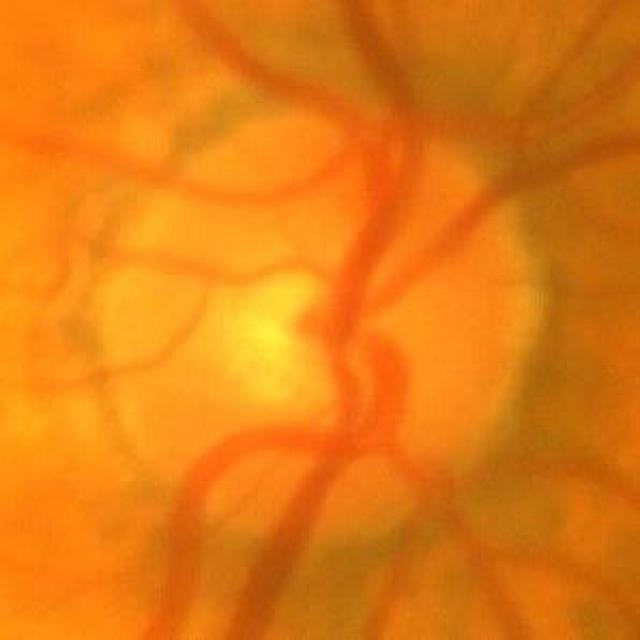OC: (215, 264, 403, 432)
OD: (99, 107, 538, 540)
